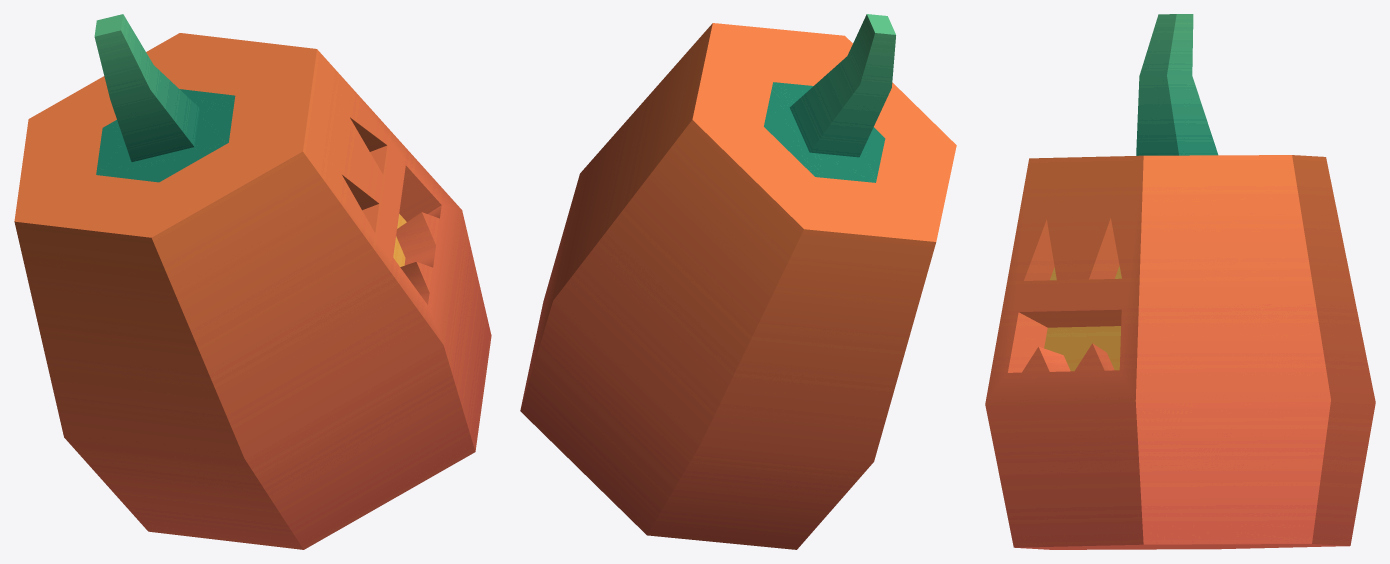
Rendered from pumpkin-tall-carved_lev2.glb.
3 views of the same model, side by side, from view 1: azimuth 30°, elevation 25°; view 2: azimuth 150°, elevation 25°; view 3: azimuth 270°, elevation 25° (orthographic). The views are drawn at different scales.
Parts seen in each view (by area): view 1: pumpkin-tall-carved_lev2; view 2: pumpkin-tall-carved_lev2; view 3: pumpkin-tall-carved_lev2.
Boxes of the visible parts, left/top/right/bottom form: pumpkin-tall-carved_lev2: left=14, top=14, right=491, bottom=549; pumpkin-tall-carved_lev2: left=520, top=14, right=956, bottom=549; pumpkin-tall-carved_lev2: left=985, top=14, right=1375, bottom=549.
Size of the model in its own units: 6.69 by 7.93 by 5.47.
Materials: 1 (1 with a texture image).
